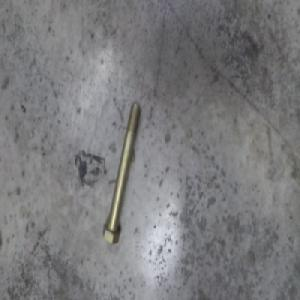Bolt: (99, 105, 141, 245)
